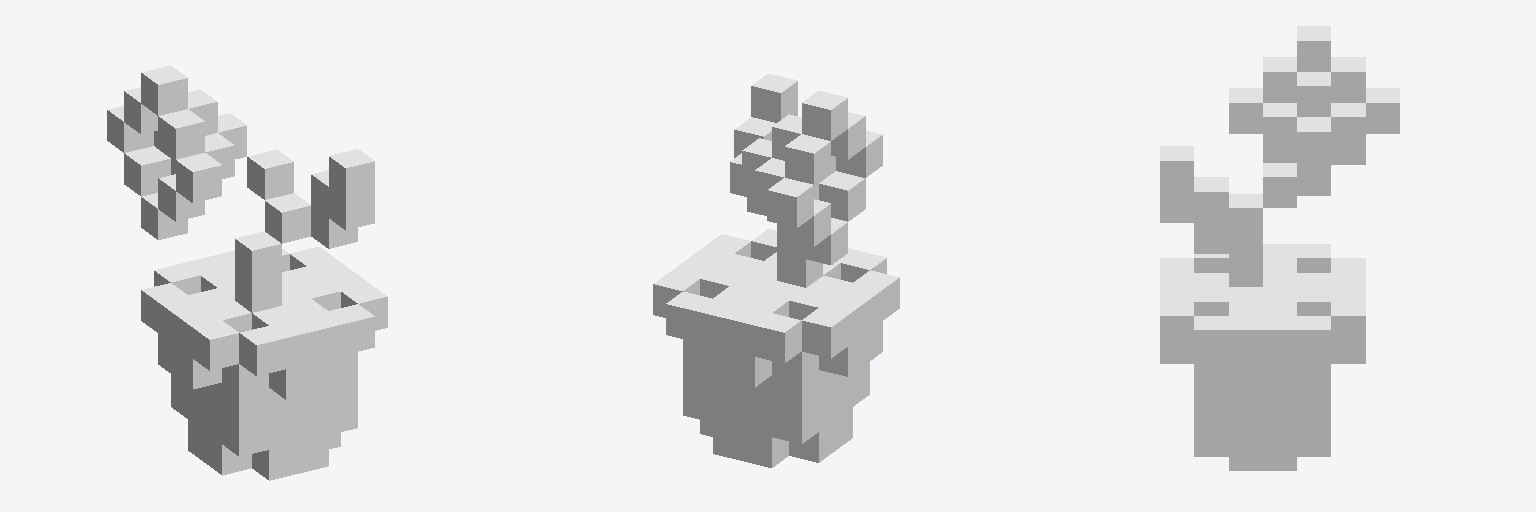
Rendered from fleur.obj.
3 renders of one model, left to right at view 1: azimuth 30°, elevation 25°; view 2: azimuth 150°, elevation 25°; view 3: azimuth 270°, elevation 25°, orthographic.
Parts seen in each view (by area): view 1: object 1; view 2: object 1; view 3: object 1.
Boxes of the visible parts, box(x1,y1,x2,y2) form: object 1: box(107, 65, 387, 480); object 1: box(653, 74, 899, 467); object 1: box(1160, 26, 1399, 470).
Size of the model in its own units: 0.6 by 1.2 by 0.7.